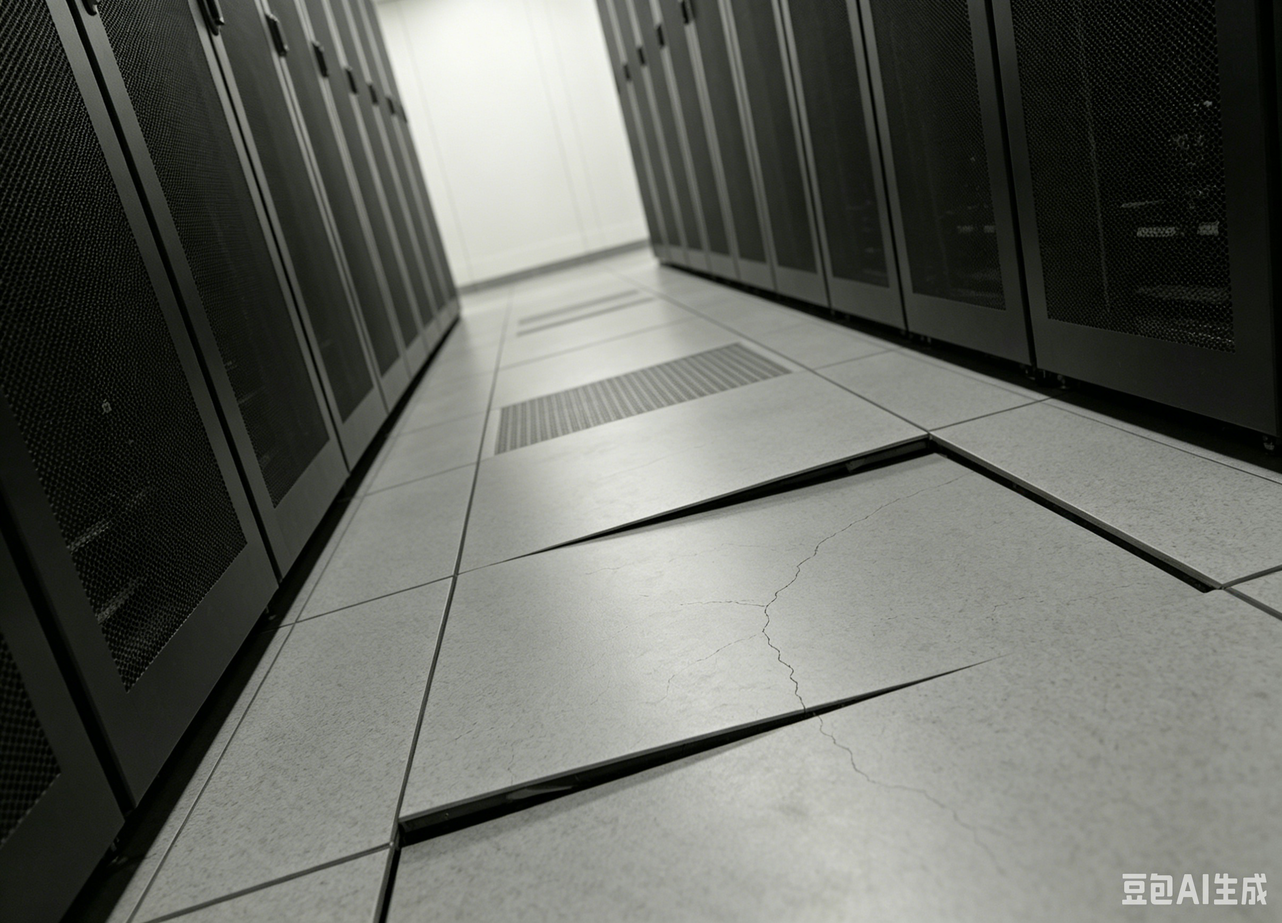floor_defect: (829, 754, 1008, 876), (721, 672, 930, 746), (1073, 510, 1224, 609), (423, 749, 562, 834), (557, 727, 726, 796), (941, 435, 1065, 517), (553, 498, 702, 558), (796, 425, 933, 490), (373, 781, 428, 923), (741, 580, 816, 671), (789, 510, 868, 574), (695, 470, 796, 513)
